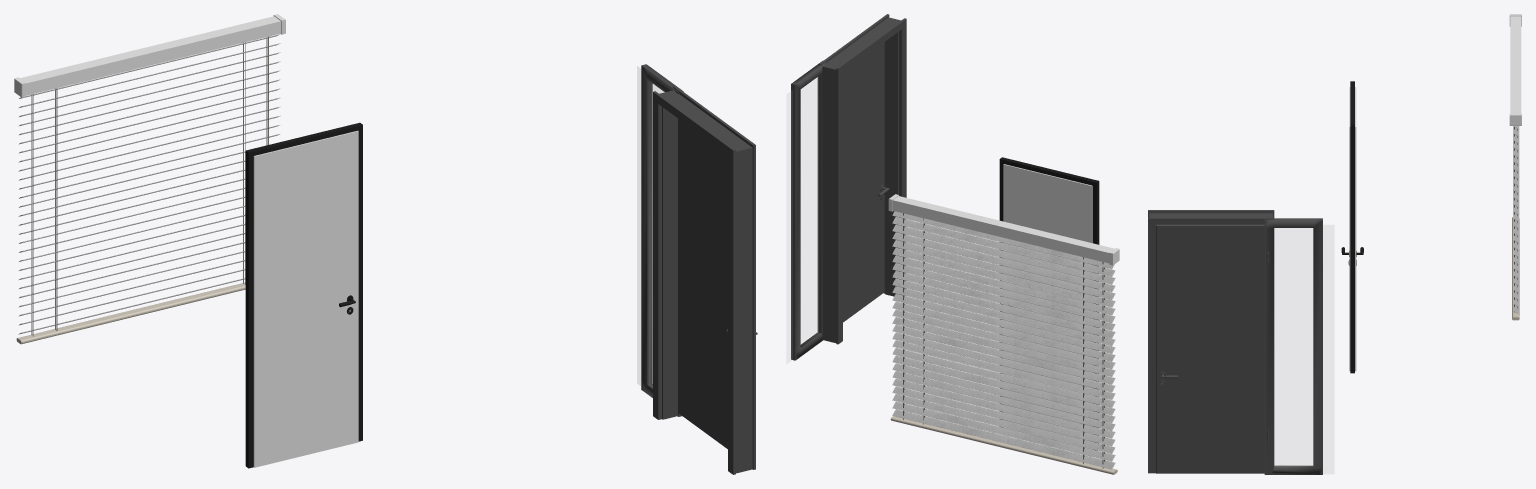
Rendered from EG_Fenster.gltf.
The picture shows the model from 3 angles, left to right: view 1: azimuth 30°, elevation 25°; view 2: azimuth 150°, elevation 25°; view 3: azimuth 270°, elevation 25°; orthographic projection. The views are drawn at different scales.
Visible parts, largest first — view 1: Plane.002_Door_0.001, Türblatt.011, defaultMaterial.001, Cut-Office.002, Blockzarge.033, Bad.008, Blockzarge.034, Blockzarge.035; view 2: defaultMaterial.001, Plane.002_Door_0.001, Türblatt.011, Bad.008, Cut-Office.002, Blockzarge.035, Blockzarge.033, Blockzarge.034; view 3: Plane.002_Door_0.001, Bad.008, Cut-Office.002, defaultMaterial.001, Blockzarge.034, Türblatt.011.
Part boxes in pixels (bbox=[...]): Plane.002_Door_0.001: bbox=[653, 86, 757, 474]; Türblatt.011: bbox=[253, 130, 358, 467]; defaultMaterial.001: bbox=[14, 14, 285, 344]; Cut-Office.002: bbox=[641, 64, 683, 416]; Blockzarge.033: bbox=[245, 149, 253, 468]; Bad.008: bbox=[637, 66, 662, 385]; Blockzarge.034: bbox=[355, 122, 362, 441]; Blockzarge.035: bbox=[251, 124, 357, 155]; defaultMaterial.001: bbox=[888, 194, 1119, 474]; Plane.002_Door_0.001: bbox=[819, 14, 906, 344]; Türblatt.011: bbox=[1003, 164, 1092, 449]; Bad.008: bbox=[787, 77, 818, 363]; Cut-Office.002: bbox=[791, 61, 826, 360]; Blockzarge.035: bbox=[1004, 158, 1094, 185]; Blockzarge.033: bbox=[1092, 180, 1099, 450]; Blockzarge.034: bbox=[999, 157, 1005, 427]; Plane.002_Door_0.001: bbox=[1148, 210, 1274, 473]; Bad.008: bbox=[1275, 225, 1333, 473]; Cut-Office.002: bbox=[1264, 218, 1322, 474]; defaultMaterial.001: bbox=[1509, 14, 1521, 320]; Blockzarge.034: bbox=[1350, 123, 1354, 373]; Türblatt.011: bbox=[1349, 87, 1356, 371].
Bounding box in the file's own units: 4.06 × 2.57 × 3.26.
Materials: 4 (1 with a texture image).
